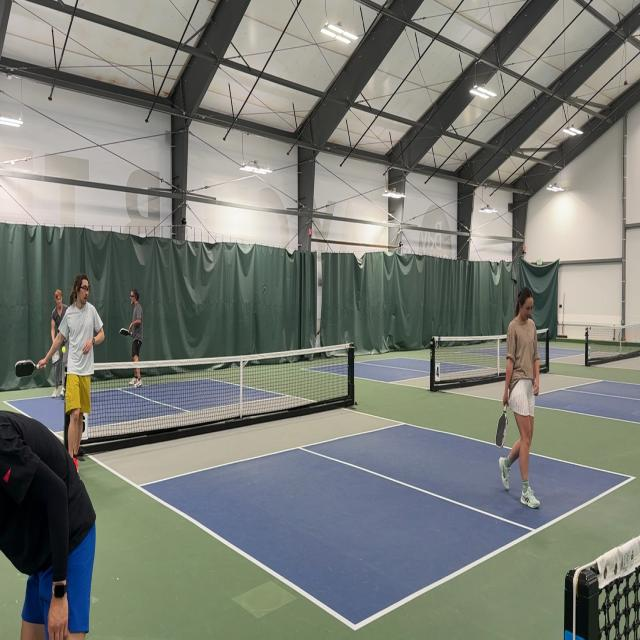ball: (62, 345, 66, 354)
